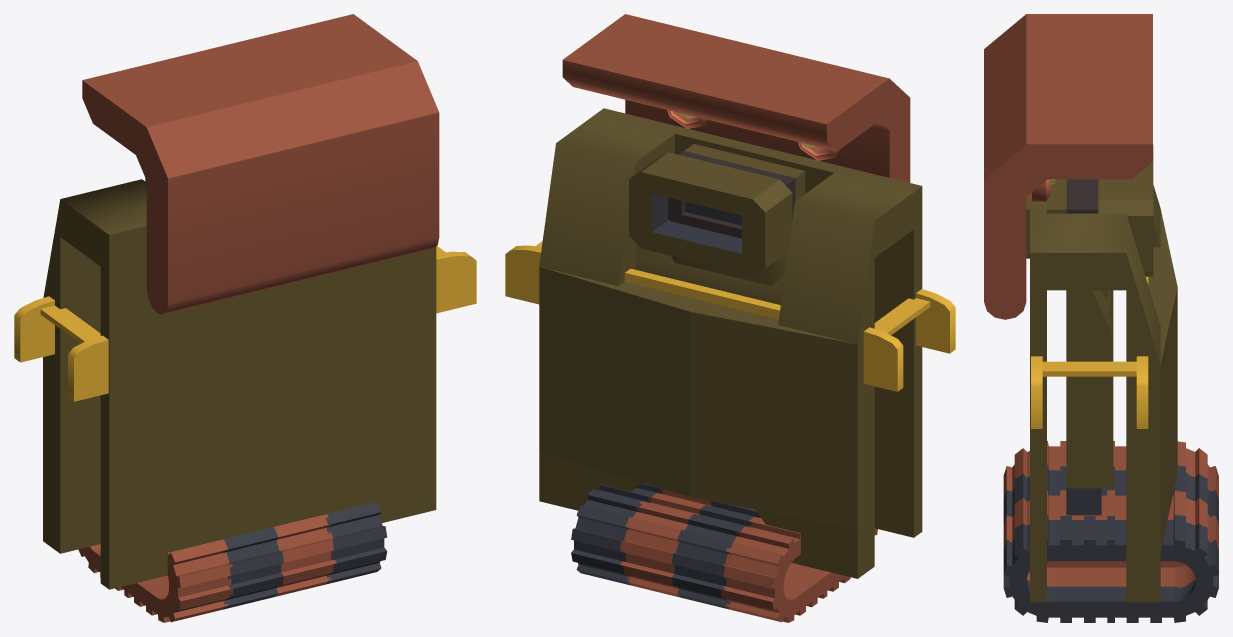
File: flagstone.glb
3 views of the same model, side by side, from view 1: azimuth 30°, elevation 25°; view 2: azimuth 150°, elevation 25°; view 3: azimuth 270°, elevation 25° (orthographic). The views are drawn at different scales.
Visible parts, largest first — view 1: mergedBlocks(Clone); view 2: mergedBlocks(Clone); view 3: mergedBlocks(Clone).
Part boxes in pixels (x1,y1,x2,y2): mergedBlocks(Clone): (14, 14, 476, 622); mergedBlocks(Clone): (505, 14, 955, 622); mergedBlocks(Clone): (984, 14, 1218, 622).
Size of the model in its own units: 1.95 by 2.34 by 1.
1 material, 1 textured.
